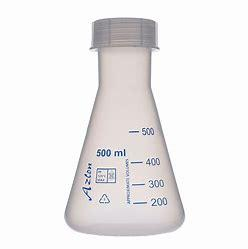Titrarion: (36, 14, 204, 234)
